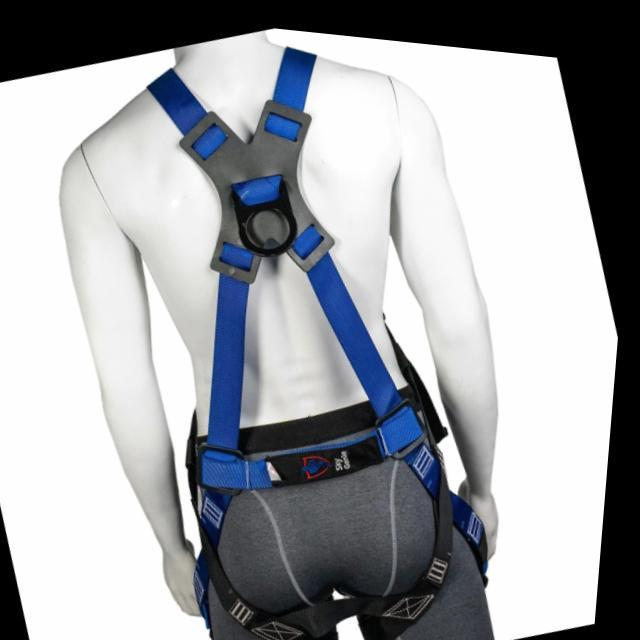belt: (39, 7, 555, 640)
